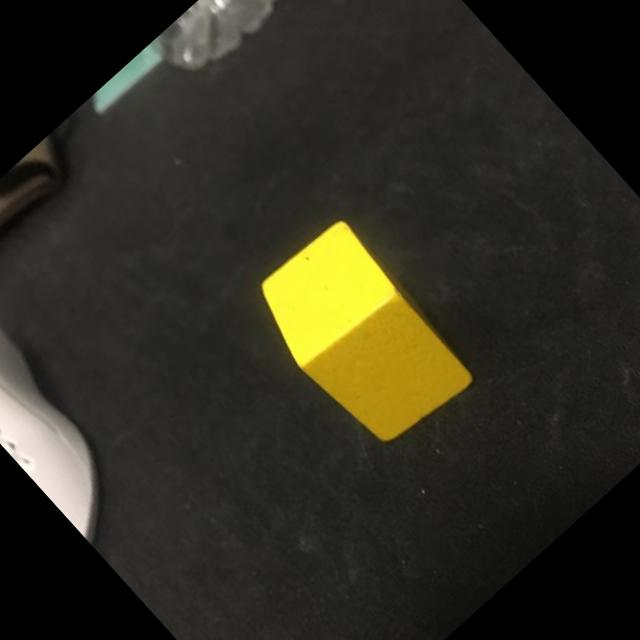yellow: (241, 212, 483, 459)
